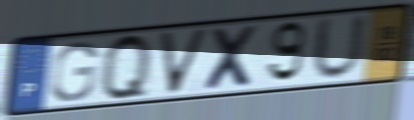9: (263, 20, 309, 86)
G: (48, 40, 101, 103)
Q: (100, 31, 152, 103)
U: (309, 11, 370, 84)
V: (156, 25, 213, 97)
X: (201, 23, 263, 92)
